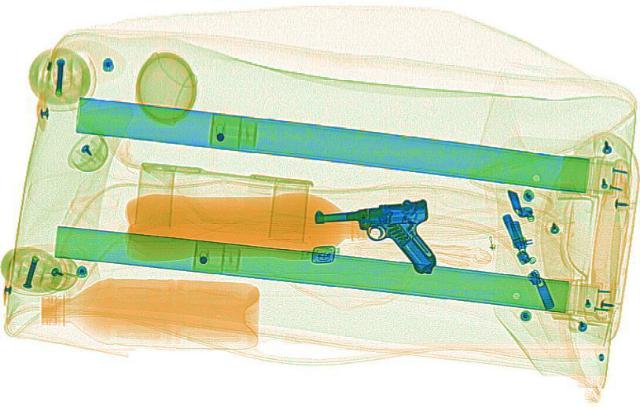Gun: (313, 196, 447, 281)
